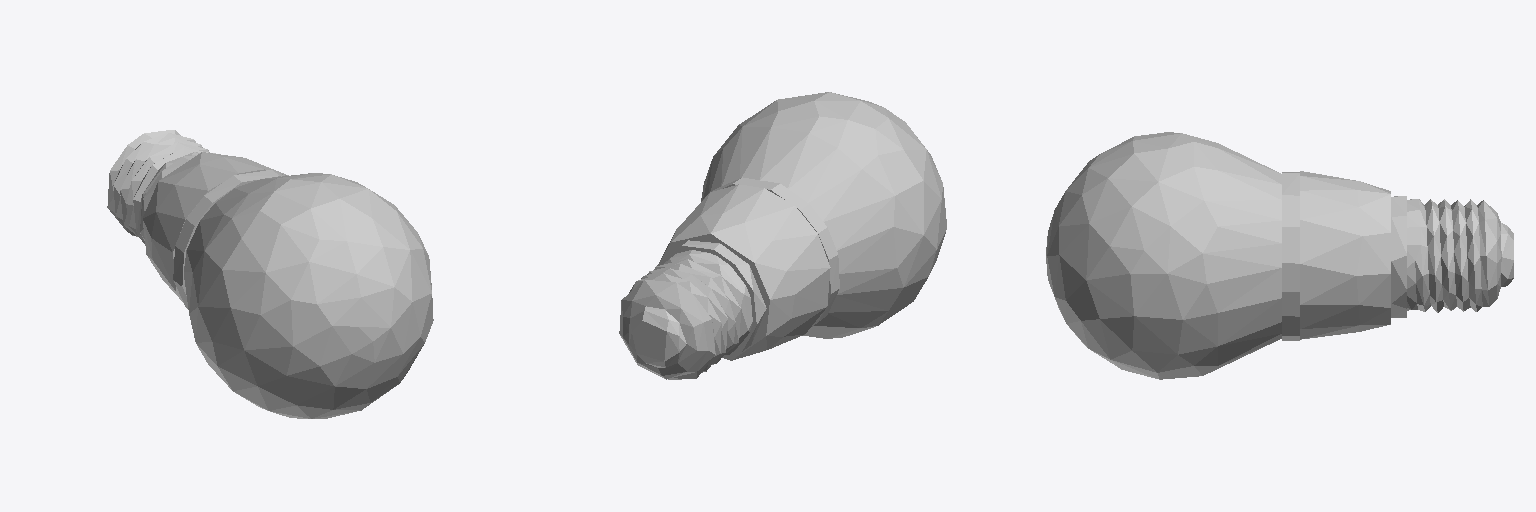
Rendered from light.obj.
The picture shows the model from 3 angles: view 1: azimuth 30°, elevation 25°; view 2: azimuth 150°, elevation 25°; view 3: azimuth 270°, elevation 25°; orthographic projection.
Parts seen in each view (by area): view 1: Led-bulb_3000K_Sphere.001; view 2: Led-bulb_3000K_Sphere.001; view 3: Led-bulb_3000K_Sphere.001.
Part boxes in pixels (x1,y1,x2,y2): Led-bulb_3000K_Sphere.001: (107,130,433,418); Led-bulb_3000K_Sphere.001: (619,92,946,379); Led-bulb_3000K_Sphere.001: (1046,132,1513,379).
Size of the model in its own units: 0.2326 by 0.2333 by 0.4413.